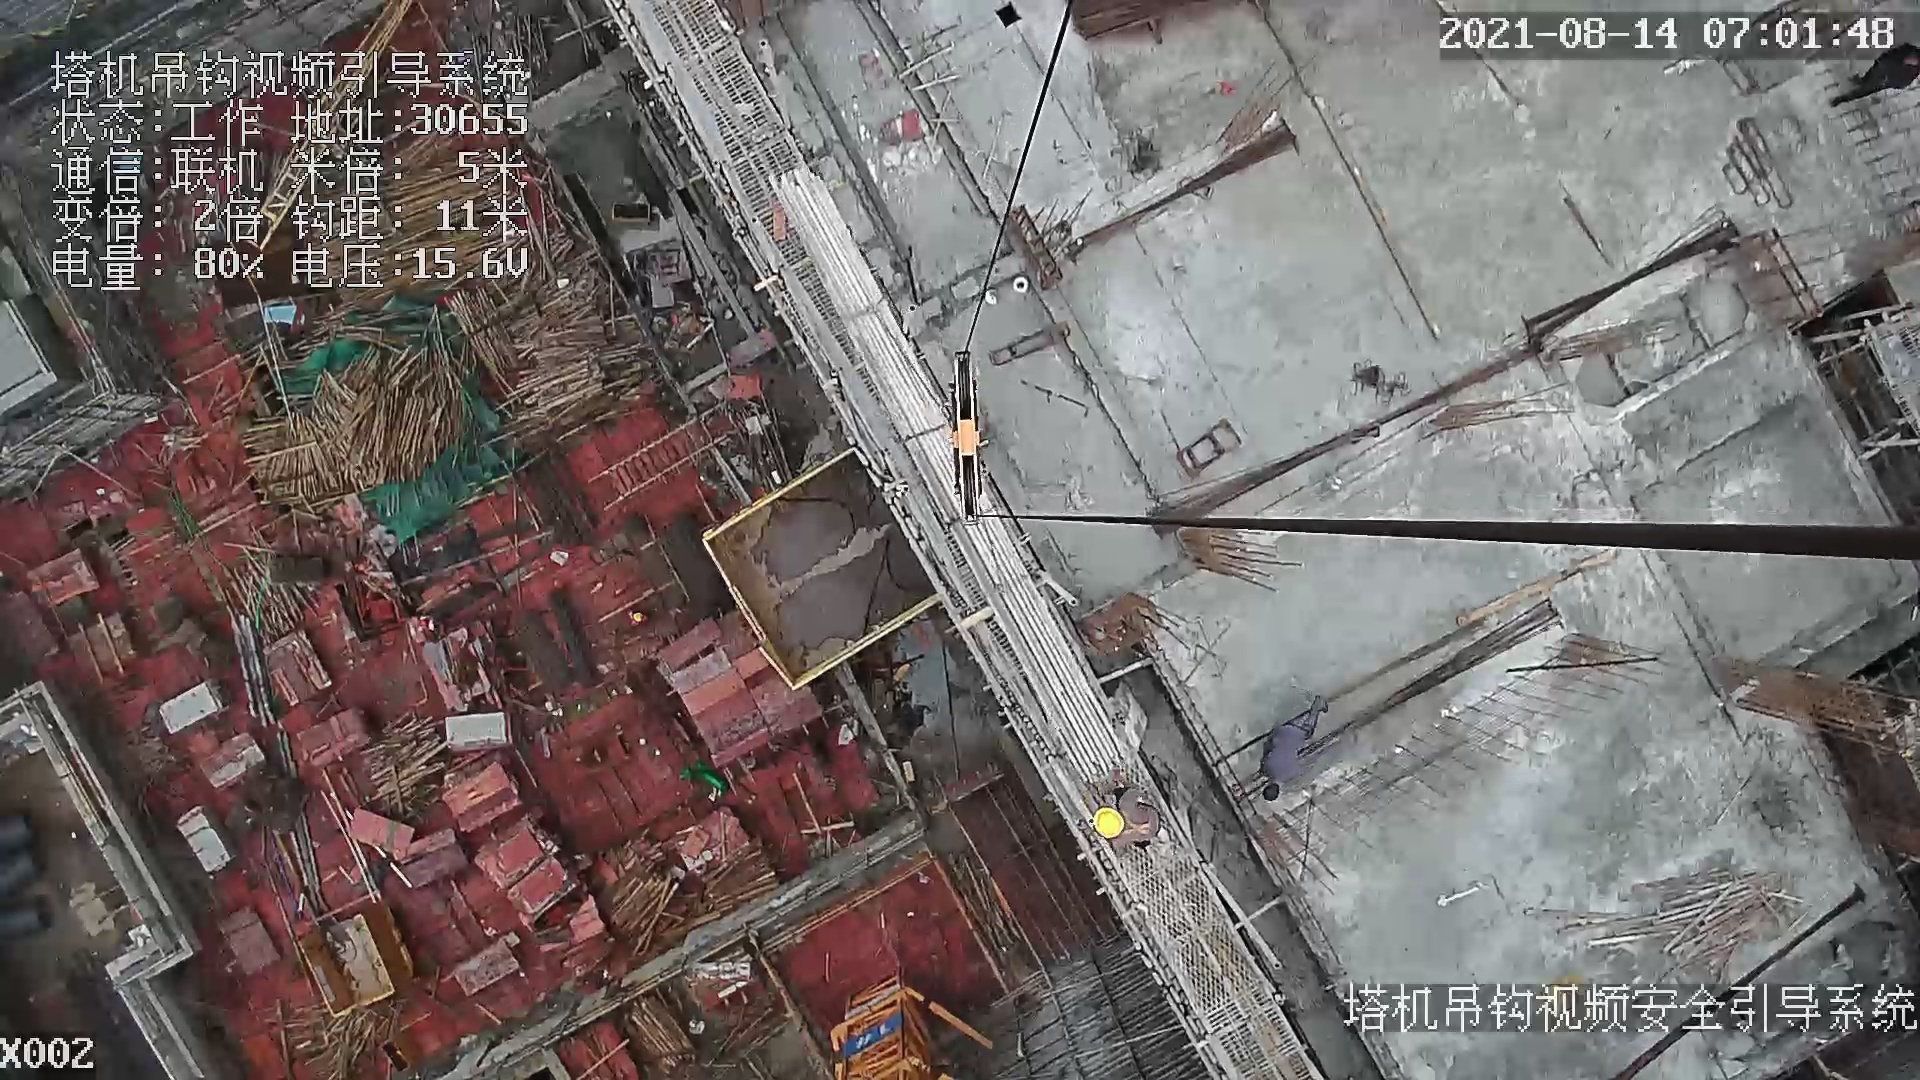helmet: (1093, 806, 1126, 839)
hook: (941, 346, 988, 526)
person: (1262, 694, 1328, 805), (1094, 786, 1169, 863)
